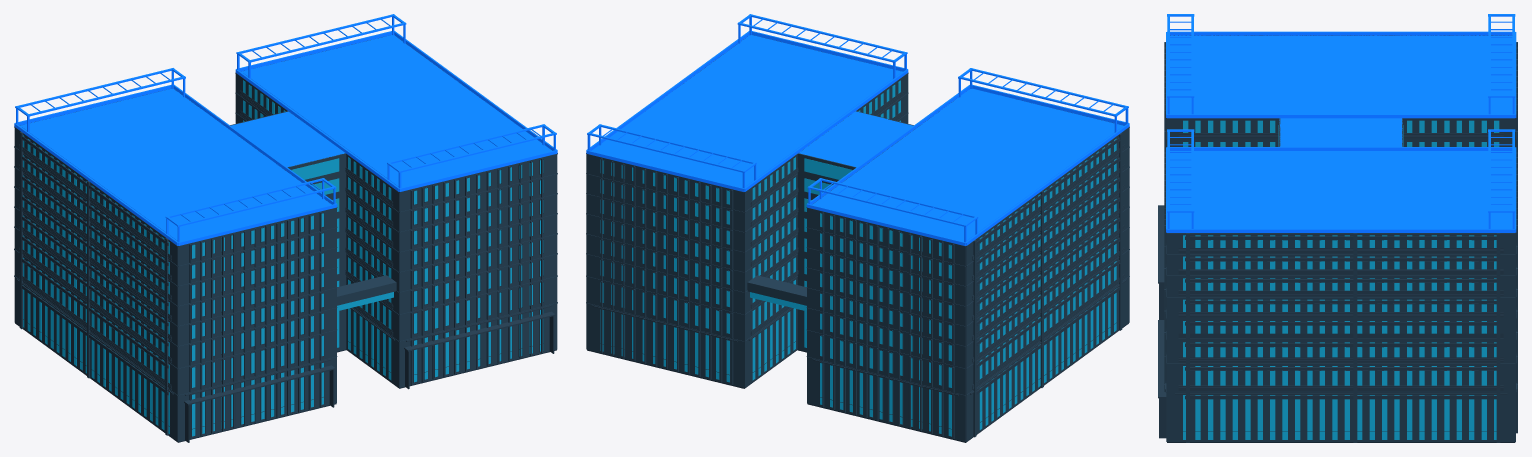
The picture shows the model from 3 angles, left to right: view 1: azimuth 30°, elevation 25°; view 2: azimuth 150°, elevation 25°; view 3: azimuth 270°, elevation 25°; orthographic projection. The views are drawn at different scales.
Parts seen in each view (by area): view 1: Campus_A_RF_Garden_Garden, Campus_A_F01_Envelope_White, Campus_A_F02_Envelope_White, Campus_A_RF_Structure_Roof, Campus_A_F08_Envelope_White, Campus_A_F03_Envelope_White, Campus_A_F07_Envelope_White, Campus_A_F06_Envelope_White, Campus_A_F05_Envelope_White, Campus_A_F04_Envelope_White, Campus_A_F01_Glazing_Glass, Campus_A_RF_Structure_White (+32 smaller); view 2: Campus_A_RF_Garden_Garden, Campus_A_F01_Envelope_White, Campus_A_F02_Envelope_White, Campus_A_RF_Structure_Roof, Campus_A_F08_Envelope_White, Campus_A_F03_Envelope_White, Campus_A_F07_Envelope_White, Campus_A_F06_Envelope_White, Campus_A_F05_Envelope_White, Campus_A_F04_Envelope_White, Campus_A_F01_Glazing_Glass, Campus_A_RF_Structure_White (+32 smaller); view 3: Campus_A_RF_Garden_Garden, Campus_A_F01_Envelope_White, Campus_A_RF_Structure_White, Campus_A_RF_Structure_Roof, Campus_A_F08_Envelope_White, Campus_A_F01_Glazing_Glass, Campus_A_F02_Envelope_White, Campus_A_F07_Envelope_White, Campus_A_F03_Envelope_White, Campus_A_F04_Envelope_White, Campus_A_F05_Envelope_White, Campus_A_F06_Envelope_White (+22 smaller).
Part boxes in pixels (x1,y1,x2,y2): Campus_A_RF_Garden_Garden: (22,36,548,241); Campus_A_F01_Envelope_White: (14,275,557,441); Campus_A_F02_Envelope_White: (14,248,557,395); Campus_A_RF_Structure_Roof: (15,14,556,241); Campus_A_F08_Envelope_White: (14,37,557,265); Campus_A_F03_Envelope_White: (14,226,557,368); Campus_A_F07_Envelope_White: (14,92,557,285); Campus_A_F06_Envelope_White: (14,112,557,305); Campus_A_F05_Envelope_White: (14,186,557,325); Campus_A_F04_Envelope_White: (14,206,557,346); Campus_A_F01_Glazing_Glass: (23,285,543,436); Campus_A_RF_Structure_White: (14,17,557,245); Campus_A_RF_Garden_Garden: (594,36,1121,241); Campus_A_F01_Envelope_White: (586,276,1129,441); Campus_A_F02_Envelope_White: (586,249,1129,395); Campus_A_RF_Structure_Roof: (587,14,1128,240); Campus_A_F08_Envelope_White: (586,35,1129,265); Campus_A_F03_Envelope_White: (586,227,1129,368); Campus_A_F07_Envelope_White: (586,92,1129,285); Campus_A_F06_Envelope_White: (586,112,1129,306); Campus_A_F05_Envelope_White: (586,186,1129,326); Campus_A_F04_Envelope_White: (586,206,1129,346); Campus_A_F01_Glazing_Glass: (600,288,1116,436); Campus_A_RF_Structure_White: (586,14,1129,245); Campus_A_RF_Garden_Garden: (1172,37,1509,228); Campus_A_F01_Envelope_White: (1164,383,1517,442); Campus_A_RF_Structure_White: (1166,21,1516,232); Campus_A_RF_Structure_Roof: (1167,14,1515,228); Campus_A_F08_Envelope_White: (1164,35,1517,255); Campus_A_F01_Glazing_Glass: (1183,395,1496,439); Campus_A_F02_Envelope_White: (1164,354,1517,392); Campus_A_F07_Envelope_White: (1164,130,1517,276); Campus_A_F03_Envelope_White: (1164,331,1517,364); Campus_A_F04_Envelope_White: (1164,309,1517,340); Campus_A_F05_Envelope_White: (1164,288,1517,319); Campus_A_F06_Envelope_White: (1164,151,1517,297).
Bounding box in the file's own units: 90.02 × 48.74 × 68.6.
